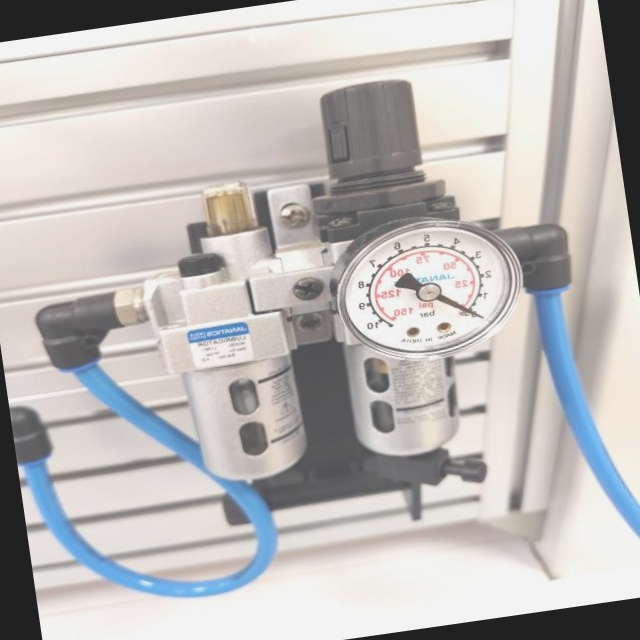FRL unit: (1, 46, 613, 556)
push button: (325, 202, 534, 372)
